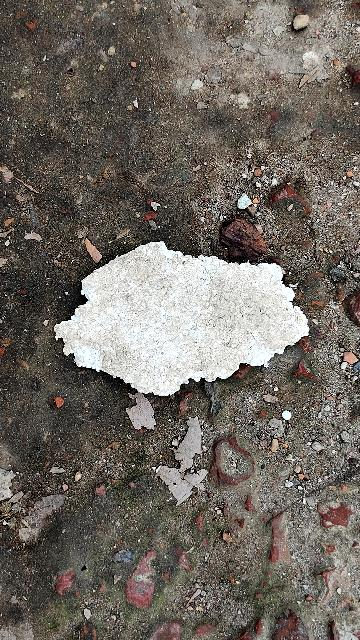cocksheet: (42, 240, 337, 421)
